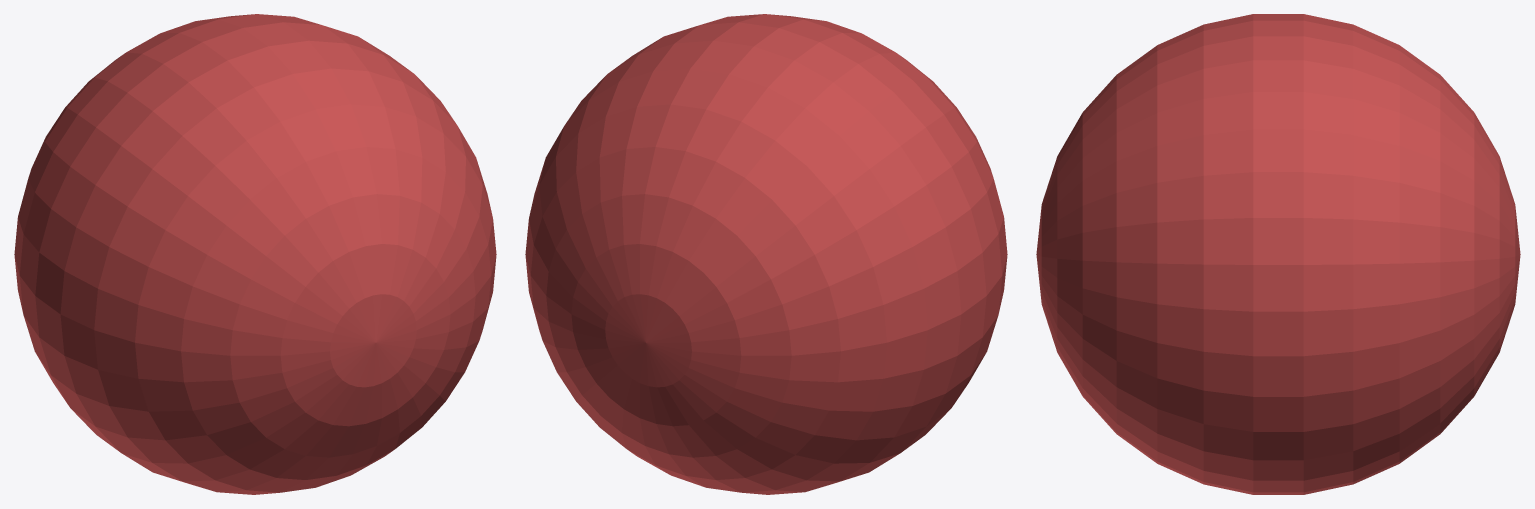
The model's file is apple.glb.
3 renders of one model, left to right at view 1: azimuth 30°, elevation 25°; view 2: azimuth 150°, elevation 25°; view 3: azimuth 270°, elevation 25°, orthographic.
Visible parts, largest first — view 1: geometry_0; view 2: geometry_0; view 3: geometry_0.
Part boxes in pixels (x1,y1,x2,y2): geometry_0: [14, 14, 496, 494]; geometry_0: [525, 14, 1007, 494]; geometry_0: [1036, 14, 1520, 494].
Size of the model in its own units: 0.7956 by 0.7956 by 0.8.
